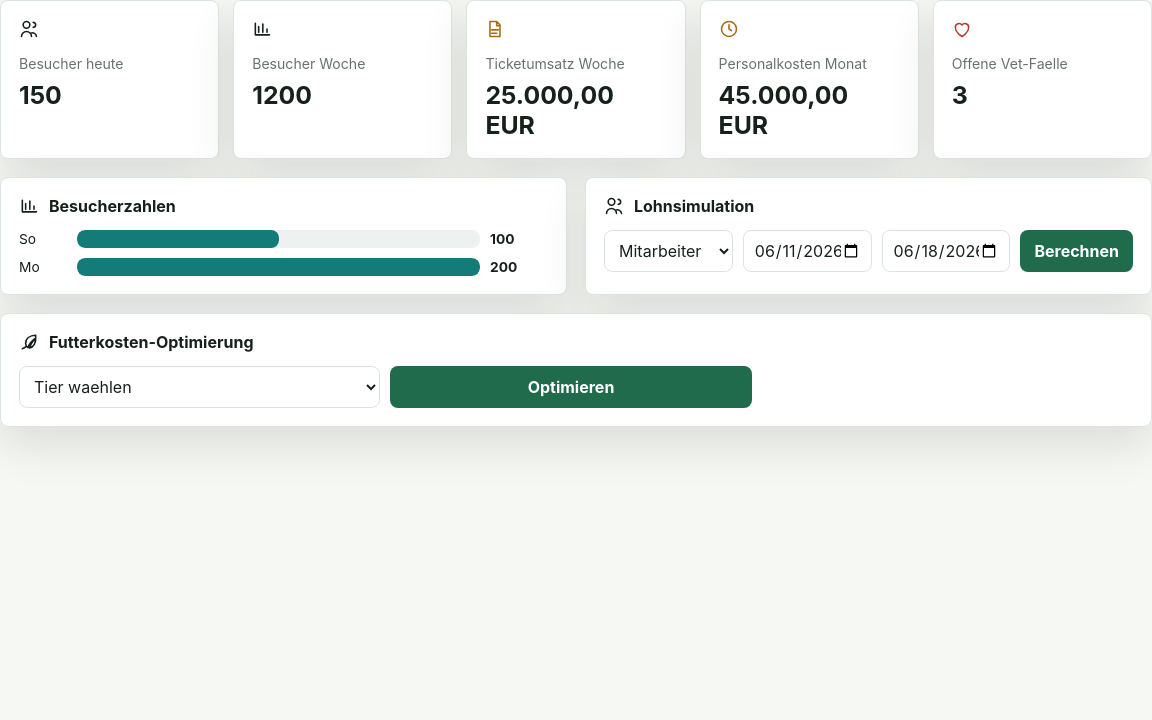
Test: EconomyView › submits feeding optimization and displays results
The width and height of the screenshot is (1152, 720).
Select "Leo - Lion" in the dropdown below "Futterkosten-Optimierung" at (200, 387), box [19,366,380,408]
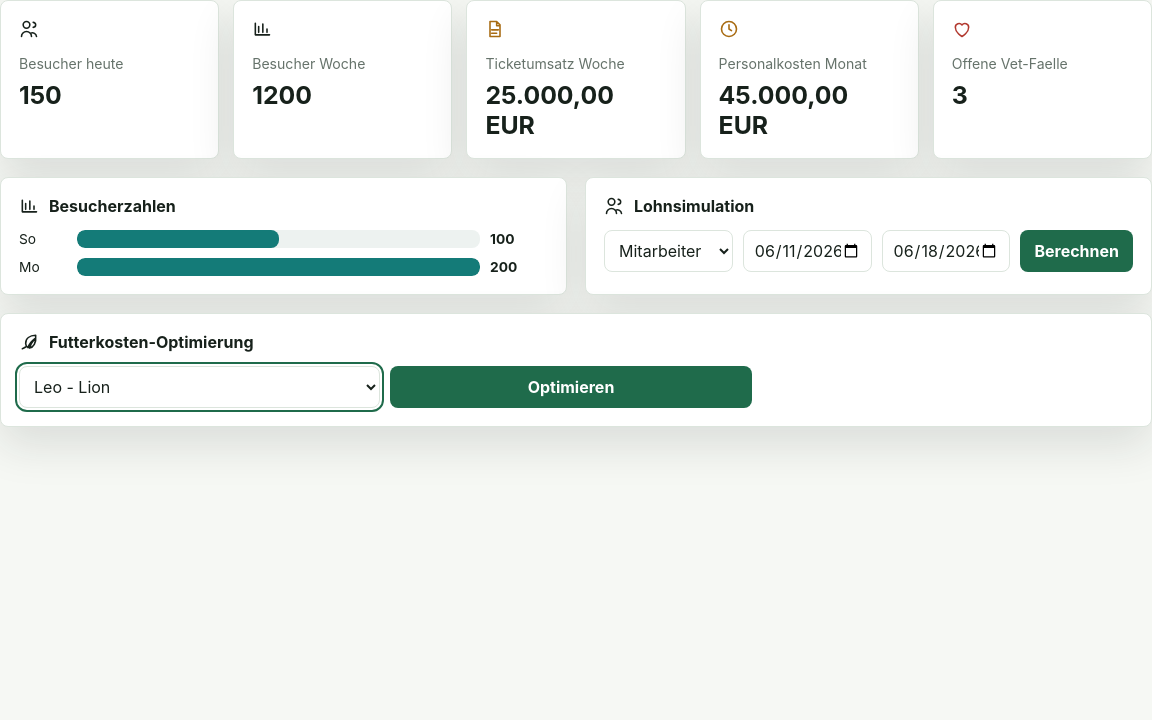
Click the button "Optimieren" at (571, 387), box [390,366,752,408]
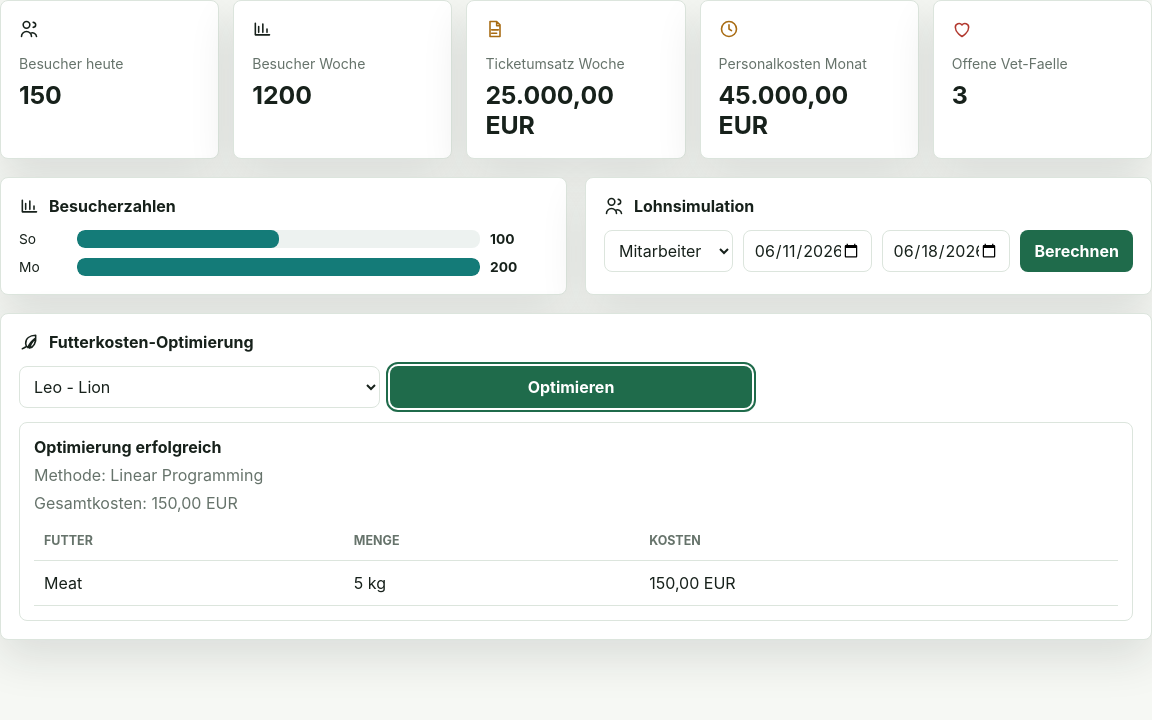
Now the text "Optimierung erfolgreich" is shown, box [34,437,221,457]
Now the text "Methode: Linear Programming" is shown, box [34,465,263,485]
Now the text "Gesamtkosten: 150,00 EUR" is shown, box [34,493,238,513]
